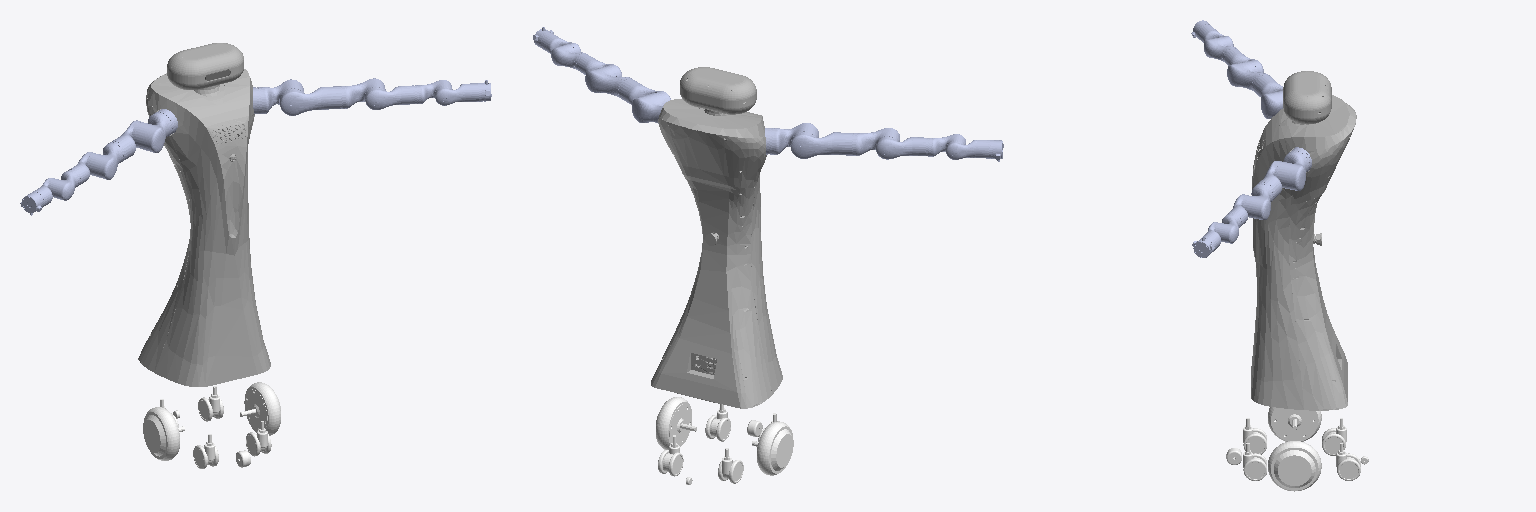
--- Facts derived from the render (not from the file) ---
The picture shows the robot from 3 angles, left to right: view 1: azimuth 30°, elevation 25°; view 2: azimuth 150°, elevation 25°; view 3: azimuth 270°, elevation 25°; orthographic projection.
Robot: dual_65B_arm_robot — 62 links, 61 joints (38 revolute, 1 continuous, 2 prismatic, 20 fixed); root link root; default pose: all joints at 0.
Links seen in each view (by area): view 1: body_base_link, head_link2, l_link2, l_wheel_link, r_wheel_link, r_link2, r_link1, l_link3, l_link5, l_link1, r_link4; view 2: body_base_link, head_link2, r_link2, l_wheel_link, r_wheel_link, l_link2, r_link3, l_link1, r_link5, r_link1, l_link4; view 3: body_base_link, head_link2, r_wheel_link, l_wheel_link, l_link2, r_link2, l_link1, l_link4.
Boxes of the visible links, <box> form: body_base_link: <box>138,69,270,386</box>; head_link2: <box>167,43,243,89</box>; l_link2: <box>280,78,385,115</box>; l_wheel_link: <box>143,407,184,460</box>; r_wheel_link: <box>240,382,280,435</box>; r_link2: <box>86,120,140,179</box>; r_link1: <box>131,112,172,152</box>; l_link3: <box>365,85,417,109</box>; l_link5: <box>435,83,481,105</box>; l_link1: <box>259,79,304,113</box>; r_link4: <box>48,170,78,200</box>; body_base_link: <box>651,99,782,408</box>; head_link2: <box>680,67,756,114</box>; r_link2: <box>790,128,899,158</box>; l_wheel_link: <box>752,421,793,475</box>; r_wheel_link: <box>656,397,696,449</box>; l_link2: <box>585,66,670,104</box>; r_link3: <box>876,137,928,159</box>; l_link1: <box>632,92,665,123</box>; r_link5: <box>946,140,992,159</box>; r_link1: <box>770,123,818,154</box>; l_link4: <box>551,44,585,69</box>; body_base_link: <box>1251,95,1356,410</box>; head_link2: <box>1283,71,1331,124</box>; r_wheel_link: <box>1268,441,1321,491</box>; l_wheel_link: <box>1268,407,1321,441</box>; l_link2: <box>1241,161,1281,219</box>; r_link2: <box>1227,61,1282,96</box>; l_link1: <box>1274,151,1309,190</box>; l_link4: <box>1214,214,1239,243</box>.
Bounding box of the posed robot: 1.66 × 0.5528 × 1.32 m (x, y, z).
Meshes: 59 distinct files referenced, 32 mesh visuals loaded (32 binary STL); not drawn: 27 (reference not matched to a file when rendering).

The robot description file, URDF, robot "dual_65B_arm_robot":
<?xml version="1.0" encoding="utf-8"?>
<!-- This URDF was automatically created by SolidWorks to URDF Exporter! Originally created by Stephen Brawner ([email redacted]) 
     Commit Version: 1.6.0-4-g7f85cfe  Build Version: 1.6.7995.38578
     For more information, please see http://wiki.ros.org/sw_urdf_exporter -->
<robot
  name="dual_65B_arm_robot">

  <link name="root">
    <inertial>
      <mass value="0"/>
      <inertia ixx="0.00" ixy="0.00" ixz="0.00" iyy="0.00" iyz="0.00" izz="0.00"/>
    </inertial>
  </link>
  <link name="root_arm_1_link_1">
    <inertial>
      <mass value="0"/>
      <inertia ixx="0.00" ixy="0.00" ixz="0.00" iyy="0.00" iyz="0.00" izz="0.00"/>
    </inertial>
  </link>
  <link name="root_arm_1_link_2">
    <inertial>
      <mass value="0"/>
      <inertia ixx="0.00" ixy="0.00" ixz="0.00" iyy="0.00" iyz="0.00" izz="0.00"/>
    </inertial>
  </link>
  <joint name="root_x_axis_joint" type="prismatic">
    <parent link="root"/>
    <child link="root_arm_1_link_1"/>
    <axis xyz="1 0 0"/>
    <limit effort="100" lower="-0.1" upper="0.1" velocity="0.50"/>
    <dynamics damping="10.0" friction="10"/>
  </joint>
  <joint name="root_y_axis_joint" type="prismatic">
    <parent link="root_arm_1_link_1"/>
    <child link="root_arm_1_link_2"/>
    <axis xyz="0 1 0"/>
    <limit effort="100" lower="-0.1" upper="0.1" velocity="0.50"/>
    <dynamics damping="10.0" friction="10"/>
  </joint>
  <joint name="root_z_rotation_joint" type="continuous">
    <parent link="root_arm_1_link_2"/>
    <child link="base_link"/>
    <axis xyz="0 0 1"/>
    <dynamics damping="10.0" friction="1"/>
  </joint>

  <link
    name="body_base_link">
    <inertial>
      <origin
        xyz="9.1042E-05 0.0090147 0.4566"
        rpy="0 0 0" />
      <mass
        value="4.7837" />
      <inertia
        ixx="0.23517"
        ixy="-3.192E-05"
        ixz="-0.00010587"
        iyy="0.25285"
        iyz="-0.018085"
        izz="0.047071" />
    </inertial>
    <visual>
      <origin
        xyz="0 0 0"
        rpy="0 0 0" />
      <geometry>
        <mesh
          filename="package://dual_65B_arm_robot/meshes/body_base_link.STL" />
      </geometry>
      <material
        name="">
        <color
          rgba="0.75294 0.75294 0.75294 1" />
      </material>
    </visual>
    <collision>
      <origin
        xyz="0 0 0"
        rpy="0 0 0" />
      <geometry>
        <mesh
          filename="package://dual_65B_arm_robot/meshes/body_base_link.STL" />
      </geometry>
    </collision>
  </link>
  <link
    name="head_link1">
    <inertial>
      <origin
        xyz="0.0001875 0.00096505 -0.016651"
        rpy="0 0 0" />
      <mass
        value="0.045769" />
      <inertia
        ixx="1.3234E-05"
        ixy="8.4883E-10"
        ixz="-7.4126E-08"
        iyy="1.9277E-05"
        iyz="9.0908E-07"
        izz="1.087E-05" />
    </inertial>
    <visual>
      <origin
        xyz="0 0 0"
        rpy="0 0 0" />
      <geometry>
        <mesh
          filename="package://dual_65B_arm_robot/meshes/head_link1.STL" />
      </geometry>
      <material
        name="">
        <color
          rgba="0.75294 0.75294 0.75294 1" />
      </material>
    </visual>
    <collision>
      <origin
        xyz="0 0 0"
        rpy="0 0 0" />
      <geometry>
        <mesh
          filename="package://dual_65B_arm_robot/meshes/head_link1.STL" />
      </geometry>
    </collision>
  </link>
  <joint
    name="head_joint1"
    type="revolute">
    <origin
      xyz="0 0.0405 0.96325"
      rpy="0 0 3.1416" />
    <parent
      link="body_base_link" />
    <child
      link="head_link1" />
    <axis
      xyz="0 0 -1" />
    <limit
      lower="-1.256"
      upper="1.256"
      effort="2"
      velocity="1.57" />
  </joint>
  <link
    name="head_link2">
    <inertial>
      <origin
        xyz="0.00049959 0.0049121 0.034146"
        rpy="0 0 0" />
      <mass
        value="0.3269" />
      <inertia
        ixx="0.00049217"
        ixy="1.368E-08"
        ixz="-4.1034E-08"
        iyy="0.0020328"
        iyz="-5.5292E-07"
        izz="0.0018375" />
    </inertial>
    <visual>
      <origin
        xyz="0 0 0"
        rpy="0 0 0" />
      <geometry>
        <mesh
          filename="package://dual_65B_arm_robot/meshes/head_link2.STL" />
      </geometry>
      <material
        name="">
        <color
          rgba="0.75294 0.75294 0.75294 1" />
      </material>
    </visual>
    <collision>
      <origin
        xyz="0 0 0"
        rpy="0 0 0" />
      <geometry>
        <mesh
          filename="package://dual_65B_arm_robot/meshes/head_link2.STL" />
      </geometry>
    </collision>
  </link>
  <joint
    name="head_joint2"
    type="revolute">
    <origin
      xyz="0 0 0"
      rpy="0 0 0" />
    <parent
      link="head_link1" />
    <child
      link="head_link2" />
    <axis
      xyz="1 0 0" />
    <limit
      lower="-0.419"
      upper="0.419"
      effort="2"
      velocity="1.57" />
  </joint>
  <link
    name="camera_link">
    <inertial>
      <origin
        xyz="-0.00024784 0.0019815 0.012439"
        rpy="0 0 0" />
      <mass
        value="0.04614" />
      <inertia
        ixx="4.0634E-06"
        ixy="-2.5882E-07"
        ixz="3.2692E-09"
        iyy="2.8364E-05"
        iyz="-1.3826E-09"
        izz="2.8417E-05" />
    </inertial>
    <visual>
      <origin
        xyz="0 0 0"
        rpy="0 0 0" />
      <geometry>
        <mesh
          filename="package://dual_65B_arm_robot/meshes/camera_link.STL" />
      </geometry>
      <material
        name="">
        <color
          rgba="0.50196 0.50196 0.50196 1" />
      </material>
    </visual>
    <collision>
      <origin
        xyz="0 0 0"
        rpy="0 0 0" />
      <geometry>
        <mesh
          filename="package://dual_65B_arm_robot/meshes/camera_link.STL" />
      </geometry>
    </collision>
  </link>
  <joint
    name="camera_joint"
    type="fixed">
    <origin
      xyz="0.0005 0.06055 0.018"
      rpy="0 0 0" />
    <parent
      link="head_link2" />
    <child
      link="camera_link" />
    <axis
      xyz="0 0 0" />
    <limit
      lower="-0.419"
      upper="0.419"
      effort="2"
      velocity="1.57" />
  </joint>
  <link
    name="r_base_link1">
    <inertial>
      <origin
        xyz="0.00012516 0.010809 -0.0025"
        rpy="0 0 0" />
      <mass
        value="0.066996" />
      <inertia
        ixx="9.1718E-05"
        ixy="3.885E-07"
        ixz="-2.5723E-21"
        iyy="7.8373E-05"
        iyz="3.7114E-21"
        izz="0.00016981" />
    </inertial>
    <visual>
      <origin
        xyz="0 0 0"
        rpy="0 0 0" />
      <geometry>
        <mesh
          filename="package://dual_65B_arm_robot/meshes/r_base_link1.STL" />
      </geometry>
      <material
        name="">
        <color
          rgba="0.75294 0.75294 0.75294 1" />
      </material>
    </visual>
    <collision>
      <origin
        xyz="0 0 0"
        rpy="0 0 0" />
      <geometry>
        <mesh
          filename="package://dual_65B_arm_robot/meshes/r_base_link1.STL" />
      </geometry>
    </collision>
  </link>
  <joint
    name="r_base_joint1"
    type="fixed">
    <origin
      xyz="-0.045832 0.068171 0.8505"
      rpy="2.7053 1.5708 0" />
    <parent
      link="body_base_link" />
    <child
      link="r_base_link1" />
    <axis
      xyz="0 0 0" />
  </joint>
  <link
    name="l_base_link1">
    <inertial>
      <origin
        xyz="0.00012516 -0.010809 -0.0025"
        rpy="0 0 0" />
      <mass
        value="0.066996" />
      <inertia
        ixx="9.1718E-05"
        ixy="-3.885E-07"
        ixz="-1.8006E-21"
        iyy="7.8373E-05"
        iyz="-1.2294E-20"
        izz="0.00016981" />
    </inertial>
    <visual>
      <origin
        xyz="0 0 0"
        rpy="0 0 0" />
      <geometry>
        <mesh
          filename="package://dual_65B_arm_robot/meshes/l_base_link1.STL" />
      </geometry>
      <material
        name="">
        <color
          rgba="0.75294 0.75294 0.75294 1" />
      </material>
    </visual>
    <collision>
      <origin
        xyz="0 0 0"
        rpy="0 0 0" />
      <geometry>
        <mesh
          filename="package://dual_65B_arm_robot/meshes/l_base_link1.STL" />
      </geometry>
    </collision>
  </link>
  <joint
    name="l_base_joint1"
    type="fixed">
    <origin
      xyz="0.045916 0.068353 0.8505"
      rpy="0.43633 1.5708 0" />
    <parent
      link="body_base_link" />
    <child
      link="l_base_link1" />
    <axis
      xyz="0 0 0" />
  </joint>
  
  
<!-- RM65-B左臂和身体的连接joint -->

  <joint
    name="l_body_arm_joint"
    type="fixed">
    <origin
      xyz="0 0 0"
      rpy="0 0 0" />
    <parent
      link="l_base_link1" />
    <child
      link="l_base_link" />
    <axis
      xyz="0 0 0" />
  </joint>


<!-- RM65-B左臂 -->

  <link
    name="l_base_link">
    <inertial>
      <origin
        xyz="-0.00033271 -2.2498E-05 0.060153"
        rpy="0 0 0" />
      <mass
        value="0.83984" />
      <inertia
        ixx="0.0017115"
        ixy="4.0323E-06"
        ixz="-4.7031E-05"
        iyy="0.0016829"
        iyz="1.8604E-06"
        izz="0.00089155" />
    </inertial>
    <visual>
      <origin
        xyz="0 0 0"
        rpy="0 0 0" />
      <geometry>
        <mesh
          filename="package://dual_65B_arm_robot/meshes/l_base_link.STL" />
      </geometry>
      <material
        name="">
        <color
          rgba="0.79216 0.81961 0.93333 1" />
      </material>
    </visual>
    <collision>
      <origin
        xyz="0 0 0"
        rpy="0 0 0" />
      <geometry>
        <mesh
          filename="package://dual_65B_arm_robot/meshes/l_base_link.STL" />
      </geometry>
    </collision>
  </link>
  <link
    name="l_link1">
    <inertial>
      <origin
        xyz="-2.9675E-07 0.021107 -0.025188"
        rpy="0 0 0" />
      <mass
        value="0.59353" />
      <inertia
        ixx="0.0012661"
        ixy="-5.363E-09"
        ixz="-2.109E-09"
        iyy="0.0011816"
        iyz="-0.00021118"
        izz="0.00056131" />
    </inertial>
    <visual>
      <origin
        xyz="0 0 0"
        rpy="0 0 0" />
      <geometry>
        <mesh
          filename="package://dual_65B_arm_robot/meshes/l_link1.STL" />
      </geometry>
      <material
        name="">
        <color
          rgba="0.79216 0.81961 0.93333 1" />
      </material>
    </visual>
    <collision>
      <origin
        xyz="0 0 0"
        rpy="0 0 0" />
      <geometry>
        <mesh
          filename="package://dual_65B_arm_robot/meshes/l_link1.STL" />
      </geometry>
    </collision>
  </link>
  <joint
    name="l_joint1"
    type="revolute">
    <origin
      xyz="0 0 0.2405"
      rpy="0 0 0" />
    <parent
      link="l_base_link" />
    <child
      link="l_link1" />
    <axis
      xyz="0 0 1" />
    <limit
      lower="-3.11"
      upper="3.11"
      effort="60"
      velocity="3.14" />
  </joint>
  <link
    name="l_link2">
    <inertial>
      <origin
        xyz="0.15226 2.3916E-07 -0.0062027"
        rpy="0 0 0" />
      <mass
        value="0.86416" />
      <inertia
        ixx="0.00063253"
        ixy="2.0103E-09"
        ixz="0.00042162"
        iyy="0.0020527"
        iyz="3.5857E-09"
        izz="0.0019528" />
    </inertial>
    <visual>
      <origin
        xyz="0 0 0"
        rpy="0 0 0" />
      <geometry>
        <mesh
          filename="package://dual_65B_arm_robot/meshes/l_link2.STL" />
      </geometry>
      <material
        name="">
        <color
          rgba="0.79216 0.81961 0.93333 1" />
      </material>
    </visual>
    <collision>
      <origin
        xyz="0 0 0"
        rpy="0 0 0" />
      <geometry>
        <mesh
          filename="package://dual_65B_arm_robot/meshes/l_link2.STL" />
      </geometry>
    </collision>
  </link>
  <joint
    name="l_joint2"
    type="revolute">
    <origin
      xyz="0 0 0"
      rpy="1.5708 -1.5708 0" />
    <parent
      link="l_link1" />
    <child
      link="l_link2" />
    <axis
      xyz="0 0 1" />
    <limit
      lower="-2.27"
      upper="2.27"
      effort="60"
      velocity="3.14" />
  </joint>
  <link
    name="l_link3">
    <inertial>
      <origin
        xyz="4.7194E-06 -0.059592 0.010268"
        rpy="0 0 0" />
      <mass
        value="0.28963" />
      <inertia
        ixx="0.00063737"
        ixy="-6.2601E-08"
        ixz="-3.5046E-08"
        iyy="0.00015649"
        iyz="-0.00014461"
        izz="0.00061418" />
    </inertial>
    <visual>
      <origin
        xyz="0 0 0"
        rpy="0 0 0" />
      <geometry>
        <mesh
          filename="package://dual_65B_arm_robot/meshes/l_link3.STL" />
      </geometry>
      <material
        name="">
        <color
          rgba="0.79216 0.81961 0.93333 1" />
      </material>
    </visual>
    <collision>
      <origin
        xyz="0 0 0"
        rpy="0 0 0" />
      <geometry>
        <mesh
          filename="package://dual_65B_arm_robot/meshes/l_link3.STL" />
      </geometry>
    </collision>
  </link>
  <joint
    name="l_joint3"
    type="revolute">
    <origin
      xyz="0.256 0 0"
      rpy="0 0 1.5708" />
    <parent
      link="l_link2" />
    <child
      link="l_link3" />
    <axis
      xyz="0 0 1" />
    <limit
      lower="-2.36"
      upper="2.36"
      effort="30"
      velocity="3.925" />
  </joint>
  <link
    name="l_link4">
    <inertial>
      <origin
        xyz="2.9186E-07 -0.018042 -0.02154"
        rpy="0 0 0" />
      <mass
        value="0.23942" />
      <inertia
        ixx="0.00028595"
        ixy="-2.3562E-09"
        ixz="1.3938E-09"
        iyy="0.00026273"
        iyz="4.424E-05"
        izz="0.0001199" />
    </inertial>
    <visual>
      <origin
        xyz="0 0 0"
        rpy="0 0 0" />
      <geometry>
        <mesh
          filename="package://dual_65B_arm_robot/meshes/l_link4.STL" />
      </geometry>
      <material
        name="">
        <color
          rgba="0.79216 0.81961 0.93333 1" />
      </material>
    </visual>
    <collision>
      <origin
        xyz="0 0 0"
        rpy="0 0 0" />
      <geometry>
        <mesh
          filename="package://dual_65B_arm_robot/meshes/l_link4.STL" />
      </geometry>
    </collision>
  </link>
  <joint
    name="l_joint4"
    type="revolute">
    <origin
      xyz="0 -0.21 -0.00030007"
      rpy="1.5708 0 0" />
    <parent
      link="l_link3" />
    <child
      link="l_link4" />
    <axis
      xyz="0 0 1" />
    <limit
      lower="-3.11"
      upper="3.11"
      effort="10"
      velocity="3.925" />
  </joint>
  <link
    name="l_link5">
    <inertial>
      <origin
        xyz="4.2301E-06 -0.059381 0.0070671"
        rpy="0 0 0" />
      <mass
        value="0.21879" />
      <inertia
        ixx="0.00035053"
        ixy="-2.8554E-08"
        ixz="-1.67E-08"
        iyy="0.00010492"
        iyz="-7.824E-05"
        izz="0.00033447" />
    </inertial>
    <visual>
      <origin
        xyz="0 0 0"
        rpy="0 0 0" />
      <geometry>
        <mesh
          filename="package://dual_65B_arm_robot/meshes/l_link5.STL" />
      </geometry>
      <material
        name="">
        <color
          rgba="0.79216 0.81961 0.93333 1" />
      </material>
    </visual>
    <collision>
      <origin
        xyz="0 0 0"
        rpy="0 0 0" />
      <geometry>
        <mesh
          filename="package://dual_65B_arm_robot/meshes/l_link5.STL" />
      </geometry>
    </collision>
  </link>
  <joint
    name="l_joint5"
    type="revolute">
    <origin
      xyz="0 0 0"
      rpy="-1.5708 0 0" />
    <parent
      link="l_link4" />
    <child
      link="l_link5" />
    <axis
      xyz="0 0 1" />
    <limit
      lower="-2.23"
      upper="2.23"
      effort="10"
      velocity="3.925" />
  </joint>
  <link
    name="l_link6">
    <inertial>
      <origin
        xyz="-0.00081845 -1.3327E-05 0.016317"
        rpy="0 0 0" />
      <mass
        value="0.064802" />
      <inertia
        ixx="2.102E-05"
        ixy="-2.2708E-08"
        ixz="2.4381E-08"
        iyy="1.7985E-05"
        iyz="1.0173E-08"
        izz="3.1728E-05" />
    </inertial>
    <visual>
      <origin
        xyz="0 0 0"
        rpy="0 0 0" />
      <geometry>
        <mesh
          filename="package://dual_65B_arm_robot/meshes/l_link6.STL" />
      </geometry>
      <material
        name="">
        <color
          rgba="0.79216 0.81961 0.93333 1" />
      </material>
    </visual>
    <collision>
      <origin
        xyz="0 0 0"
        rpy="0 0 0" />
      <geometry>
        <mesh
          filename="package://dual_65B_arm_robot/meshes/l_link6.STL" />
      </geometry>
    </collision>
  </link>
  <joint
    name="l_joint6"
    type="revolute">
    <origin
      xyz="0 -0.115 -0.00029971"
      rpy="-1.5708 0 3.1416" />
    <parent
      link="l_link5" />
    <child
      link="l_link6" />
    <axis
      xyz="0 0 1" />
    <limit
      lower="-6.28"
      upper="6.28"
      effort="10"
      velocity="3.925" />
  </joint>
  
  
<!-- RM65-B右臂和身体的连接joint -->

  <joint
    name="r_body_arm_joint"
    type="fixed">
    <origin
      xyz="0 0 0"
      rpy="0 0 3.1415" />
    <parent
      link="r_base_link1" />
    <child
      link="r_base_link" />
    <axis
      xyz="0 0 0" />
  </joint>
  
  
<!-- RM65-B右臂 --> 


  <link
    name="r_base_link">
    <inertial>
      <origin
        xyz="-0.0003328 -2.2058E-05 0.060153"
        rpy="0 0 0" />
      <mass
        value="0.83984" />
      <inertia
        ixx="0.0017115"
        ixy="4.0275E-06"
        ixz="-4.7032E-05"
        iyy="0.0016829"
        iyz="1.8664E-06"
        izz="0.00089154" />
    </inertial>
    <visual>
      <origin
        xyz="0 0 0"
        rpy="0 0 0" />
      <geometry>
        <mesh
          filename="package://dual_65B_arm_robot/meshes/r_base_link.STL" />
      </geometry>
      <material
        name="">
        <color
          rgba="0.79216 0.81961 0.93333 1" />
      </material>
    </visual>
    <collision>
      <origin
        xyz="0 0 0"
        rpy="0 0 0" />
      <geometry>
        <mesh
          filename="package://dual_65B_arm_robot/meshes/r_base_link.STL" />
      </geometry>
    </collision>
  </link>
  <link
    name="r_link1">
    <inertial>
      <origin
        xyz="-2.8998E-07 0.021107 -0.025188"
        rpy="0 0 0" />
      <mass
        value="0.59353" />
      <inertia
        ixx="0.0012661"
        ixy="-5.3526E-09"
        ixz="-2.0479E-09"
        iyy="0.0011816"
        iyz="-0.00021118"
        izz="0.00056131" />
    </inertial>
    <visual>
      <origin
        xyz="0 0 0"
        rpy="0 0 0" />
      <geometry>
        <mesh
          filename="package://dual_65B_arm_robot/meshes/r_link1.STL" />
      </geometry>
      <material
        name="">
        <color
          rgba="0.79216 0.81961 0.93333 1" />
      </material>
    </visual>
    <collision>
      <origin
        xyz="0 0 0"
        rpy="0 0 0" />
      <geometry>
        <mesh
          filename="package://dual_65B_arm_robot/meshes/r_link1.STL" />
      </geometry>
    </collision>
  </link>
  <joint
    name="r_joint1"
    type="revolute">
    <origin
      xyz="0 0 0.2405"
      rpy="0 0 3.14" />
    <parent
      link="r_base_link" />
    <child
      link="r_link1" />
    <axis
      xyz="0 0 1" />
    <limit
      lower="-3.11"
      upper="3.11"
      effort="60"
      velocity="3.14" />
  </joint>
  <link
    name="r_link2">
    <inertial>
      <origin
        xyz="0.15226 2.505E-07 -0.0062027"
        rpy="0 0 0" />
      <mass
        value="0.86416" />
      <inertia
        ixx="0.00063253"
        ixy="1.9052E-09"
        ixz="0.00042162"
        iyy="0.0020527"
        iyz="3.5874E-09"
        izz="0.0019528" />
    </inertial>
    <visual>
      <origin
        xyz="0 0 0"
        rpy="0 0 0" />
      <geometry>
        <mesh
          filename="package://dual_65B_arm_robot/meshes/r_link2.STL" />
      </geometry>
      <material
        name="">
        <color
          rgba="0.79216 0.81961 0.93333 1" />
      </material>
    </visual>
    <collision>
      <origin
        xyz="0 0 0"
        rpy="0 0 0" />
      <geometry>
        <mesh
          filename="package://dual_65B_arm_robot/meshes/r_link2.STL" />
      </geometry>
    </collision>
  </link>
  <joint
    name="r_joint2"
    type="revolute">
    <origin
      xyz="0 0 0"
      rpy="1.5708 -1.5708 0" />
    <parent
      link="r_link1" />
    <child
      link="r_link2" />
    <axis
      xyz="0 0 1" />
    <limit
      lower="-2.27"
      upper="2.27"
      effort="60"
      velocity="3.14" />
  </joint>
  <link
    name="r_link3">
    <inertial>
      <origin
        xyz="4.7421E-06 -0.059592 0.010268"
        rpy="0 0 0" />
      <mass
        value="0.28963" />
      <inertia
        ixx="0.00063737"
        ixy="-6.2554E-08"
        ixz="-3.5031E-08"
        iyy="0.00015649"
        iyz="-0.00014461"
        izz="0.00061418" />
    </inertial>
    <visual>
      <origin
        xyz="0 0 0"
        rpy="0 0 0" />
      <geometry>
        <mesh
          filename="package://dual_65B_arm_robot/meshes/r_link3.STL" />
      </geometry>
      <material
        name="">
        <color
          rgba="0.79216 0.81961 0.93333 1" />
      </material>
    </visual>
    <collision>
      <origin
        xyz="0 0 0"
        rpy="0 0 0" />
      <geometry>
        <mesh
          filename="package://dual_65B_arm_robot/meshes/r_link3.STL" />
      </geometry>
    </collision>
  </link>
  <joint
    name="r_joint3"
    type="revolute">
    <origin
      xyz="0.256 0 0"
      rpy="0 0 1.5708" />
    <parent
      link="r_link2" />
    <child
      link="r_link3" />
    <axis
      xyz="0 0 1" />
    <limit
      lower="-2.36"
      upper="2.36"
      effort="30"
      velocity="3.925" />
  </joint>
  <link
    name="r_link4">
    <inertial>
      <origin
        xyz="2.9088E-07 -0.018042 -0.02154"
        rpy="0 0 0" />
      <mass
        value="0.23942" />
      <inertia
        ixx="0.00028595"
        ixy="-2.3541E-09"
        ixz="1.386E-09"
        iyy="0.00026273"
        iyz="4.424E-05"
        izz="0.0001199" />
    </inertial>
    <visual>
      <origin
        xyz="0 0 0"
        rpy="0 0 0" />
      <geometry>
        <mesh
          filename="package://dual_65B_arm_robot/meshes/r_link4.STL" />
      </geometry>
      <material
        name="">
        <color
          rgba="0.79216 0.81961 0.93333 1" />
      </material>
    </visual>
    <collision>
      <origin
        xyz="0 0 0"
        rpy="0 0 0" />
      <geometry>
        <mesh
          filename="package://dual_65B_arm_robot/meshes/r_link4.STL" />
      </geometry>
    </collision>
  </link>
  <joint
    name="r_joint4"
    type="revolute">
    <origin
      xyz="0 -0.21 -0.00030007"
      rpy="1.5708 0 0" />
    <parent
      link="r_link3" />
    <child
      link="r_link4" />
    <axis
      xyz="0 0 1" />
    <limit
      lower="-3.11"
      upper="3.11"
      effort="10"
      velocity="3.925" />
  </joint>
  <link
    name="r_link5">
    <inertial>
      <origin
        xyz="4.2478E-06 -0.059381 0.007067"
        rpy="0 0 0" />
      <mass
        value="0.21879" />
      <inertia
        ixx="0.00035053"
        ixy="-2.8579E-08"
        ixz="-1.655E-08"
        iyy="0.00010492"
        iyz="-7.824E-05"
        izz="0.00033447" />
    </inertial>
    <visual>
      <origin
        xyz="0 0 0"
        rpy="0 0 0" />
      <geometry>
        <mesh
          filename="package://dual_65B_arm_robot/meshes/r_link5.STL" />
      </geometry>
      <material
        name="">
        <color
          rgba="0.79216 0.81961 0.93333 1" />
      </material>
    </visual>
    <collision>
      <origin
        xyz="0 0 0"
        rpy="0 0 0" />
      <geometry>
        <mesh
          filename="package://dual_65B_arm_robot/meshes/r_link5.STL" />
      </geometry>
    </collision>
  </link>
  <joint
    name="r_joint5"
    type="revolute">
    <origin
      xyz="0 0 0"
      rpy="-1.5708 0 0" />
    <parent
      link="r_link4" />
    <child
      link="r_link5" />
    <axis
      xyz="0 0 1" />
    <limit
      lower="-2.23"
      upper="2.23"
      effort="10"
      velocity="3.925" />
  </joint>
  <link
    name="r_link6">
    <inertial>
      <origin
        xyz="0.00081845 1.3321E-05 0.019292"
        rpy="0 0 0" />
      <mass
        value="0.064802" />
      <inertia
        ixx="2.102E-05"
        ixy="-2.2708E-08"
        ixz="-2.438E-08"
        iyy="1.7985E-05"
        iyz="-1.0173E-08"
        izz="3.1728E-05" />
    </inertial>
    <visual>
      <origin
        xyz="0 0 0"
        rpy="0 0 0" />
      <geometry>
        <mesh
          filename="package://dual_65B_arm_robot/meshes/r_link6.STL" />
      </geometry>
      <material
        name="">
        <color
          rgba="0.79216 0.81961 0.93333 1" />
      </material>
    </visual>
    <collision>
      <origin
        xyz="0 0 0"
        rpy="0 0 0" />
      <geometry>
        <mesh
          filename="package://dual_65B_arm_robot/meshes/r_link6.STL" />
      </geometry>
    </collision>
  </link>
  <joint
    name="r_joint6"
    type="revolute">
    <origin
      xyz="0 -0.11203 -0.00029971"
      rpy="1.5708 3.1415 0" />
    <parent
      link="r_link5" />
    <child
      link="r_link6" />
    <axis
      xyz="0 0 1" />
    <limit
      lower="-6.28"
      upper="6.28"
      effort="10"
      velocity="3.925" />
  </joint>
<!-- 底盘和主体连接joint -->  

  <joint
    name="dipan_zhuti_joint"
    type="fixed">
    <origin
      xyz="0 0 0.18"
      rpy="0 0 0" />
    <parent
      link="base_link" />
    <child
      link="body_base_link" />
    <axis
      xyz="0 0 0" />

  </joint>

<!-- 底盘 -->

  <link
    name="base_link">
    <inertial>
      <origin
        xyz="-0.00022588 -0.029317 0.067118"
        rpy="0 0 0" />
      <mass
        value="3.652" />
      <inertia
        ixx="0.040658"
        ixy="-4.1019E-05"
        ixz="0.00010805"
        iyy="0.085621"
        iyz="-0.00031013"
        izz="0.10712" />
    </inertial>
    <visual>
      <origin
        xyz="0 0 0"
        rpy="0 0 0" />
      <geometry>
        <mesh
          filename="package://dual_65B_arm_robot/meshes/base_link.STL" />
      </geometry>
      <material
        name="">
        <color
          rgba="1 1 1 1" />
      </material>
    </visual>
    <collision>
      <origin
        xyz="0 0 0"
        rpy="0 0 0" />
      <geometry>
        <mesh
          filename="package://dual_65B_arm_robot/meshes/base_link.STL" />
      </geometry>
    </collision>
  </link>
  <link
    name="r_wheel_link">
    <inertial>
      <origin
        xyz="0.33262 3.4018E-06 3.7026E-06"
        rpy="0 0 0" />
      <mass
        value="1.1012" />
      <inertia
        ixx="0.003396"
        ixy="2.2501E-07"
        ixz="2.3628E-07"
        iyy="0.001988"
        iyz="1.5358E-08"
        izz="0.001988" />
    </inertial>
    <visual>
      <origin
        xyz="0 0 0"
        rpy="0 0 0" />
      <geometry>
        <mesh
          filename="package://dual_65B_arm_robot/meshes/r_wheel_link.STL" />
      </geometry>
      <material
        name="">
        <color
          rgba="1 1 1 1" />
      </material>
    </visual>
    <collision>
      <origin
        xyz="0 0 0"
        rpy="0 0 0" />
      <geometry>
        <mesh
          filename="package://dual_65B_arm_robot/meshes/r_wheel_link.STL" />
      </geometry>
    </collision>
  </link>
  <joint
    name="r_wheel_joint_1"
    type="fixed">
    <origin
      xyz="-0.151 0 -0.0109"
      rpy="0 0 0" />
    <parent
      link="base_link" />
    <child
      link="r_wheel_link" />
    <axis
      xyz="1 0 0" />
    <limit
      effort="100"
      velocity="10" />
  </joint>
  <link
    name="l_wheel_link">
    <inertial>
      <origin
        xyz="-0.33262 9.1102E-08 5.0272E-06"
        rpy="0 0 0" />
      <mass
        value="1.1012" />
      <inertia
        ixx="0.003396"
        ixy="-7.5162E-11"
        ixz="-3.2628E-07"
        iyy="0.001988"
        iyz="-2.7338E-15"
        izz="0.001988" />
    </inertial>
    <visual>
      <origin
        xyz="0 0 0"
        rpy="0 0 0" />
      <geometry>
        <mesh
          filename="package://dual_65B_arm_robot/meshes/l_wheel_link.STL" />
      </geometry>
      <material
        name="">
        <color
          rgba="1 1 1 1" />
      </material>
    </visual>
    <collision>
      <origin
        xyz="0 0 0"
        rpy="0 0 0" />
      <geometry>
        <mesh
          filename="package://dual_65B_arm_robot/meshes/l_wheel_link.STL" />
      </geometry>
    </collision>
  </link>
  <joint
    name="l_wheel_joint2"
    type="fixed">
    <origin
      xyz="0.151 0 -0.0109"
      rpy="0 0 0" />
    <parent
      link="base_link" />
    <child
      link="l_wheel_link" />
    <axis
      xyz="1 0 0" />
    <limit
      effort="100"
      velocity="10" />
  </joint>
  <link
    name="min_wheel_link1">
    <inertial>
      <origin
        xyz="0.0065 4.231E-08 -2.8631E-08"
        rpy="0 0 0" />
      <mass
        value="0.0059492" />
      <inertia
        ixx="4.5784E-07"
        ixy="-2.2073E-13"
        ixz="3.9671E-13"
        iyy="3.0694E-07"
        iyz="-1.2059E-12"
        izz="3.0694E-07" />
    </inertial>
    <visual>
      <origin
        xyz="0 0 0"
        rpy="0 0 0" />
      <geometry>
        <mesh
          filename="package://dual_65B_arm_robot/meshes/min_wheel_link1.STL" />
      </geometry>
      <material
        name="">
        <color
          rgba="1 1 1 1" />
      </material>
    </visual>
    <collision>
      <origin
        xyz="0 0 0"
        rpy="0 0 0" />
      <geometry>
        <mesh
          filename="package://dual_65B_arm_robot/meshes/min_wheel_link1.STL" />
      </geometry>
    </collision>
  </link>
  <joint
    name="min_wheel_joint"
    type="fixed">
    <origin
      xyz="-0.0065 0.218 -0.0745"
      rpy="0 0 0" />
    <parent
      link="base_link" />
    <child
      link="min_wheel_link1" />
    <axis
      xyz="-1 0 0" />
  </joint>
  <link
    name="medium_wheel_link2">
    <inertial>
      <origin
        xyz="0.015 0 0"
        rpy="0 0 0" />
      <mass
        value="0.055849" />
      <inertia
        ixx="1.7473E-05"
        ixy="7.0072E-12"
        ixz="-1.4822E-11"
        iyy="1.2735E-05"
        iyz="-1.8244E-10"
        izz="1.2735E-05" />
    </inertial>
    <visual>
      <origin
        xyz="0 0 0"
        rpy="0 0 0" />
      <geometry>
        <mesh
          filename="package://dual_65B_arm_robot/meshes/medium_wheel_link2.STL" />
      </geometry>
      <material
        name="">
        <color
          rgba="1 1 1 1" />
      </material>
    </visual>
    <collision>
      <origin
        xyz="0 0 0"
        rpy="0 0 0" />
      <geometry>
        <mesh
          filename="package://dual_65B_arm_robot/meshes/medium_wheel_link2.STL" />
      </geometry>
    </collision>
  </link>
  <joint
    name="medium_wheel_joint2"
    type="fixed">
    <origin
      xyz="-0.014 -0.188 -0.061"
      rpy="0 0 0" />
    <parent
      link="base_link" />
    <child
      link="medium_wheel_link2" />
    <axis
      xyz="-1 0 0" />
  </joint>
  <link
    name="swivel_wheel_link1_1">
    <inertial>
      <origin
        xyz="6.9718E-08 -0.0021717 0.034797"
        rpy="0 0 0" />
      <mass
        value="0.033248" />
      <inertia
        ixx="1.1034E-05"
        ixy="-2.1793E-11"
        ixz="-4.5884E-11"
        iyy="1.084E-05"
        iyz="-1.5008E-06"
        izz="3.8134E-06" />
    </inertial>
    <visual>
      <origin
        xyz="0 0 0"
        rpy="0 0 0" />
      <geometry>
        <mesh
          filename="package://dual_65B_arm_robot/meshes/swivel_wheel_link1_1.STL" />
      </geometry>
      <material
        name="">
        <color
          rgba="1 1 1 1" />
      </material>
    </visual>
    <collision>
      <origin
        xyz="0 0 0"
        rpy="0 0 0" />
      <geometry>
        <mesh
          filename="package://dual_65B_arm_robot/meshes/swivel_wheel_link1_1.STL" />
      </geometry>
    </collision>
  </link>
  <joint
    name="swivel_wheel_joint1_1"
    type="fixed">
    <origin
      xyz="-0.093 -0.146 -0.0552"
      rpy="0 0 0" />
    <parent
      link="base_link" />
    <child
      link="swivel_wheel_link1_1" />
    <axis
      xyz="0 0 1" />
  </joint>
  <link
    name="swivel_wheel_link1_2">
    <inertial>
      <origin
        xyz="-1.0802E-07 -2.8487E-07 -4.6142E-07"
        rpy="0 0 0" />
      <mass
        value="0.17673" />
      <inertia
        ixx="0.00010419"
        ixy="-2.299E-10"
        ixz="-2.8569E-10"
        iyy="9.7392E-05"
        iyz="1.9391E-09"
        izz="9.7391E-05" />
    </inertial>
    <visual>
      <origin
        xyz="0 0 0"
        rpy="0 0 0" />
      <geometry>
        <mesh
          filename="package://dual_65B_arm_robot/meshes/swivel_wheel_link1_2.STL" />
      </geometry>
      <material
        name="">
        <color
          rgba="1 1 1 1" />
      </material>
    </visual>
    <collision>
      <origin
        xyz="0 0 0"
        rpy="0 0 0" />
      <geometry>
        <mesh
          filename="package://dual_65B_arm_robot/meshes/swivel_wheel_link1_2.STL" />
      </geometry>
    </collision>
  </link>
  <joint
    name="swivel_wheel_joint_1_2"
    type="fixed">
    <origin
      xyz="0 0.0235 0"
      rpy="0 0 0" />
    <parent
      link="swivel_wheel_link1_1" />
    <child
      link="swivel_wheel_link1_2" />
    <axis
      xyz="-1 0 0" />
  </joint>
  <link
    name="swivel_wheel_link2_1">
    <inertial>
      <origin
        xyz="6.9718E-08 -0.0021717 0.034797"
        rpy="0 0 0" />
      <mass
        value="0.033248" />
      <inertia
        ixx="1.1034E-05"
        ixy="-2.1793E-11"
        ixz="-4.5884E-11"
        iyy="1.084E-05"
        iyz="-1.5008E-06"
        izz="3.8134E-06" />
    </inertial>
    <visual>
      <origin
        xyz="0 0 0"
        rpy="0 0 0" />
      <geometry>
        <mesh
          filename="package://dual_65B_arm_robot/meshes/swivel_wheel_link2_1.STL" />
      </geometry>
      <material
        name="">
        <color
          rgba="1 1 1 1" />
      </material>
    </visual>
    <collision>
      <origin
        xyz="0 0 0"
        rpy="0 0 0" />
      <geometry>
        <mesh
          filename="package://dual_65B_arm_robot/meshes/swivel_wheel_link2_1.STL" />
      </geometry>
    </collision>
  </link>
  <joint
    name="swivel_wheel_joint2_1"
    type="fixed">
    <origin
      xyz="0.093 -0.146 -0.0552"
      rpy="0 0 0" />
    <parent
      link="base_link" />
    <child
      link="swivel_wheel_link2_1" />
    <axis
      xyz="0 0 1" />
  </joint>
  <link
    name="swivel_wheel_link2_2">
    <inertial>
      <origin
        xyz="-1.0802E-07 -2.8487E-07 -4.6142E-07"
        rpy="0 0 0" />
      <mass
        value="0.17673" />
      <inertia
        ixx="0.00010419"
        ixy="-2.299E-10"
        ixz="-2.8569E-10"
        iyy="9.7392E-05"
        iyz="1.9391E-09"
        izz="9.7391E-05" />
    </inertial>
    <visual>
      <origin
        xyz="0 0 0"
        rpy="0 0 0" />
      <geometry>
        <mesh
          filename="package://dual_65B_arm_robot/meshes/swivel_wheel_link2_2.STL" />
      </geometry>
      <material
        name="">
        <color
          rgba="1 1 1 1" />
      </material>
    </visual>
    <collision>
      <origin
        xyz="0 0 0"
        rpy="0 0 0" />
      <geometry>
        <mesh
          filename="package://dual_65B_arm_robot/meshes/swivel_wheel_link2_2.STL" />
      </geometry>
    </collision>
  </link>
  <joint
    name="swivel_wheel_joint2_2"
    type="fixed">
    <origin
      xyz="0 0.0235 0"
      rpy="0 0 0" />
    <parent
      link="swivel_wheel_link2_1" />
    <child
      link="swivel_wheel_link2_2" />
    <axis
      xyz="-1 0 0" />
  </joint>
  <link
    name="swivel_wheel_link3_1">
    <inertial>
      <origin
        xyz="-6.9718E-08 0.0021717 0.034797"
        rpy="0 0 0" />
      <mass
        value="0.033248" />
      <inertia
        ixx="1.1034E-05"
        ixy="-2.1793E-11"
        ixz="4.5884E-11"
        iyy="1.084E-05"
        iyz="1.5008E-06"
        izz="3.8134E-06" />
    </inertial>
    <visual>
      <origin
        xyz="0 0 0"
        rpy="0 0 0" />
      <geometry>
        <mesh
          filename="package://dual_65B_arm_robot/meshes/swivel_wheel_link3_1.STL" />
      </geometry>
      <material
        name="">
        <color
          rgba="1 1 1 1" />
      </material>
    </visual>
    <collision>
      <origin
        xyz="0 0 0"
        rpy="0 0 0" />
      <geometry>
        <mesh
          filename="package://dual_65B_arm_robot/meshes/swivel_wheel_link3_1.STL" />
      </geometry>
    </collision>
  </link>
  <joint
    name="swivel_wheel_joint3_1"
    type="fixed">
    <origin
      xyz="-0.093 0.146 -0.0552"
      rpy="0 0 0" />
    <parent
      link="base_link" />
    <child
      link="swivel_wheel_link3_1" />
    <axis
      xyz="0 0 1" />
  </joint>
  <link
    name="swivel_wheel_link3_2">
    <inertial>
      <origin
        xyz="1.0802E-07 2.8487E-07 -4.6142E-07"
        rpy="0 0 0" />
      <mass
        value="0.17673" />
      <inertia
        ixx="0.00010419"
        ixy="-2.299E-10"
        ixz="2.8569E-10"
        iyy="9.7392E-05"
        iyz="-1.9391E-09"
        izz="9.7391E-05" />
    </inertial>
    <visual>
      <origin
        xyz="0 0 0"
        rpy="0 0 0" />
      <geometry>
        <mesh
          filename="package://dual_65B_arm_robot/meshes/swivel_wheel_link3_2.STL" />
      </geometry>
      <material
        name="">
        <color
          rgba="1 1 1 1" />
      </material>
    </visual>
    <collision>
      <origin
        xyz="0 0 0"
        rpy="0 0 0" />
      <geometry>
        <mesh
          filename="package://dual_65B_arm_robot/meshes/swivel_wheel_link3_2.STL" />
      </geometry>
    </collision>
  </link>
  <joint
    name="swivel_wheel_joint3_2"
    type="fixed">
    <origin
      xyz="0 -0.0235 0"
      rpy="0 0 0" />
    <parent
      link="swivel_wheel_link3_1" />
    <child
      link="swivel_wheel_link3_2" />
    <axis
      xyz="1 0 0" />
  </joint>
  <link
    name="swivel_wheel_link4_1">
    <inertial>
      <origin
        xyz="6.9718E-08 -0.0021717 0.034797"
        rpy="0 0 0" />
      <mass
        value="0.033248" />
      <inertia
        ixx="1.1034E-05"
        ixy="-2.1793E-11"
        ixz="-4.5884E-11"
        iyy="1.084E-05"
        iyz="-1.5008E-06"
        izz="3.8134E-06" />
    </inertial>
    <visual>
      <origin
        xyz="0 0 0"
        rpy="0 0 0" />
      <geometry>
        <mesh
          filename="package://dual_65B_arm_robot/meshes/swivel_wheel_link4_1.STL" />
      </geometry>
      <material
        name="">
        <color
          rgba="1 1 1 1" />
      </material>
    </visual>
    <collision>
      <origin
        xyz="0 0 0"
        rpy="0 0 0" />
      <geometry>
        <mesh
          filename="package://dual_65B_arm_robot/meshes/swivel_wheel_link4_1.STL" />
      </geometry>
    </collision>
  </link>
  <joint
    name="swivel_wheel_joint4_1"
    type="fixed">
    <origin
      xyz="0.093 0.146 -0.0552"
      rpy="0 0 0" />
    <parent
      link="base_link" />
    <child
      link="swivel_wheel_link4_1" />
    <axis
      xyz="0 0 1" />
  </joint>
  <link
    name="swivel_wheel_link4_2">
    <inertial>
      <origin
        xyz="-1.0802E-07 0.0235 -4.6142E-07"
        rpy="0 0 0" />
      <mass
        value="0.17673" />
      <inertia
        ixx="0.00010419"
        ixy="-2.299E-10"
        ixz="-2.8569E-10"
        iyy="9.7392E-05"
        iyz="1.9391E-09"
        izz="9.7391E-05" />
    </inertial>
    <visual>
      <origin
        xyz="0 0 0"
        rpy="0 0 0" />
      <geometry>
        <mesh
          filename="package://dual_65B_arm_robot/meshes/swivel_wheel_link4_2.STL" />
      </geometry>
      <material
        name="">
        <color
          rgba="1 1 1 1" />
      </material>
    </visual>
    <collision>
      <origin
        xyz="0 0 0"
        rpy="0 0 0" />
      <geometry>
        <mesh
          filename="package://dual_65B_arm_robot/meshes/swivel_wheel_link4_2.STL" />
      </geometry>
    </collision>
  </link>
  <joint
    name="swivel_wheel_joint4_2"
    type="fixed">
    <origin
      xyz="0 0 0"
      rpy="0 0 0" />
    <parent
      link="swivel_wheel_link4_1" />
    <child
      link="swivel_wheel_link4_2" />
    <axis
      xyz="-1 0 0" />
  </joint>


  <!-- 左臂末端和左手灵巧手的连接joint -->
  <joint name="l_arm_hand_joint" type="fixed">
    <origin xyz="0 0 0.03" rpy="3.14 0 1.57" />
    <parent link="l_link6" />
    <child link="l_hand_base_link" />
    <axis xyz="0 0 0" />
  </joint>

  <!-- 左手灵巧手 -->
  <link name="l_hand_base_link">
    <inertial>
      <origin xyz="-0.0071754 0.0035435 0.086503" rpy="0 0 0" />
      <mass value="0.19121" />
      <inertia ixx="0.00051318" ixy="4.0981E-05" ixz="-2.4782E-06" iyy="0.00048013" iyz="5.5952E-06" izz="0.00019085" />
    </inertial>
    <visual>
      <origin xyz="0 0 0" rpy="0 0 0" />
      <geometry>
        <mesh filename="package://dual_65B_arm_robot/meshes/l_hand_base_link.STL" />
      </geometry>
      <material name="">
        <color rgba="0.75294 0.75294 0.75294 1" />
      </material>
    </visual>
    <collision>
      <origin xyz="0 0 0" rpy="0 0 0" />
      <geometry>
        <mesh filename="package://dual_65B_arm_robot/meshes/l_hand_base_link.STL" />
      </geometry>
    </collision>
  </link>

  <!-- 右臂末端和右手灵巧手的连接joint -->
  <joint name="r_arm_hand_joint" type="fixed">
    <origin xyz="0 0 0.03" rpy="3.14 0 -1.57" />
    <parent link="r_link6" />
    <child link="r_hand_base_link" />
    <axis xyz="0 0 0" />
  </joint>

  <!-- 右手灵巧手 -->
  <link name="r_hand_base_link">
    <inertial>
      <origin xyz="0.007634 0.0023992 0.084999" rpy="0 0 0" />
      <mass value="0.19125" />
      <inertia ixx="0.00050006" ixy="-4.4071E-05" ixz="3.3293E-06" iyy="0.0004934" iyz="5.1155E-06" izz="0.00019084" />
    </inertial>
    <visual>
      <origin xyz="0 0 0" rpy="0 0 0" />
      <geometry>
        <mesh filename="package://dual_65B_arm_robot/meshes/r_hand_base_link.STL" />
      </geometry>
      <material name="">
        <color rgba="0.75294 0.75294 0.75294 1" />
      </material>
    </visual>
    <collision>
      <origin xyz="0 0 0" rpy="0 0 0" />
      <geometry>
        <mesh filename="package://dual_65B_arm_robot/meshes/r_hand_base_link.STL" />
      </geometry>
    </collision>
  </link>

  <!-- 右手灵巧手的URDF结构 -->
  <!-- <link name="base_link_right_hand">
    <inertial>
      <origin xyz="-4.91696692515552E-05 -0.00297934158474353 -0.0724838074966582" rpy="0 0 0" />
      <mass value="0.260034351097693" />
      <inertia ixx="0.000240584294557413" ixy="1.12900341553271E-06" ixz="5.34716263010627E-07" iyy="0.000284423438713157" iyz="-1.41174524262487E-05" izz="0.000155854672271766" />
    </inertial>
    <visual>
      <origin xyz="0 0 0" rpy="0 0 0" />
      <geometry>
        <mesh filename="package://dual_65B_arm_robot/meshes/base_link.STL" />
      </geometry>
      <material name="">
        <color rgba="1 1 1 1" />
      </material>
    </visual>
    <collision>
      <origin xyz="0 0 0" rpy="0 0 0" />
      <geometry>
        <mesh filename="package://dual_65B_arm_robot/meshes/base_link.STL" />
      </geometry>
    </collision>
  </link> -->

  <!-- 右手灵巧手的关节和链接 -->
  <link
    name="right_thumb_1">
    <inertial>
      <origin
        xyz="-0.00178423179132732 0.000649410769092404 0.00488589310434417"
        rpy="0 0 0" />
      <mass
        value="0.00115518743162309" />
      <inertia
        ixx="5.98911473694571E-08"
        ixy="-8.04324266712912E-09"
        ixz="-3.29346964287939E-09"
        iyy="4.07201940087006E-08"
        iyz="1.1987242259973E-09"
        izz="6.18161684388651E-08" />
    </inertial>
    <visual>
      <origin
        xyz="0 0 0"
        rpy="0 0 0" />
      <geometry>
        <mesh
          filename="package://dual_65B_arm_robot/meshes/right_thumb_1.STL" />
      </geometry>
      <material
        name="">
        <color
          rgba="1 1 1 1" />
      </material>
    </visual>
    <collision>
      <origin
        xyz="0 0 0"
        rpy="0 0 0" />
      <geometry>
        <mesh
          filename="package://dual_65B_arm_robot/meshes/right_thumb_1.STL" />
      </geometry>
    </collision>
  </link>
  <joint
    name="right_thumb_1_joint"
    type="revolute">
    <origin
      xyz="0.0269 0.02101 -0.069"
      rpy="-3.1416 0 -3.1416" />
    <parent
      link="r_hand_base_link" />
    <child
      link="right_thumb_1" />
    <axis
      xyz="0 0 -1" />
    <limit
      lower="0"
      upper="1.15"
      effort="10"
      velocity="1" />
  </joint>
  <link
    name="right_thumb_2">
    <inertial>
      <origin
        xyz="0.0141071308121962 0.0132720367246953 -0.00905029680056009"
        rpy="0 0 0" />
      <mass
        value="0.016" />
      <inertia
        ixx="1.06573287501608E-06"
        ixy="-7.61985755293293E-08"
        ixz="-2.57609628655293E-11"
        iyy="1.06536320559038E-06"
        iyz="5.09603163270097E-12"
        izz="1.39688473195303E-06" />
    </inertial>
    <visual>
      <origin
        xyz="0 0 0"
        rpy="0 0 0" />
      <geometry>
        <mesh
          filename="package://dual_65B_arm_robot/meshes/right_thumb_2.STL" />
      </geometry>
      <material
        name="">
        <color
          rgba="1 1 1 1" />
      </material>
    </visual>
    <collision>
      <origin
        xyz="0 0 0"
        rpy="0 0 0" />
      <geometry>
        <mesh
          filename="package://dual_65B_arm_robot/meshes/right_thumb_2.STL" />
      </geometry>
    </collision>
  </link>
  <joint
    name="right_thumb_2_joint"
    type="revolute">
    <origin
      xyz="-0.0063016 0.011924 0.003"
      rpy="1.5708 0 2.7925" />
    <parent
      link="right_thumb_1" />
    <child
      link="right_thumb_2" />
    <axis
      xyz="0 0 1" />
    <limit
      lower="0"
      upper="0.55"
      effort="10"
      velocity="1" />
  </joint>
  <link
    name="right_thumb_3">
    <inertial>
      <origin
        xyz="0.00937843602210774 0.00404407714692963 -0.00753947150343212"
        rpy="0 0 0" />
      <mass
        value="0.012" />
      <inertia
        ixx="4.67837152048068E-07"
        ixy="-4.50034504480504E-08"
        ixz="-7.50604972036399E-11"
        iyy="3.98821847444202E-07"
        iyz="-2.80308780973008E-10"
        izz="4.24792779381109E-07" />
    </inertial>
    <visual>
      <origin
        xyz="0 0 0"
        rpy="0 0 0" />
      <geometry>
        <mesh
          filename="package://dual_65B_arm_robot/meshes/right_thumb_3.STL" />
      </geometry>
      <material
        name="">
        <color
          rgba="1 1 1 1" />
      </material>
    </visual>
    <collision>
      <origin
        xyz="0 0 0"
        rpy="0 0 0" />
      <geometry>
        <mesh
          filename="package://dual_65B_arm_robot/meshes/right_thumb_3.STL" />
      </geometry>
    </collision>
  </link>
  <joint
    name="right_thumb_3_joint"
    type="revolute">
    <origin
      xyz="0.034968 0.021325 -0.0015"
      rpy="0 0 0" />
    <parent
      link="right_thumb_2" />
    <child
      link="right_thumb_3" />
    <axis
      xyz="0 0 1" />
    <limit
      lower="0"
      upper="3.14"
      effort="10"
      velocity="1" />
    <mimic
        joint="right_thumb_2_joint"
        multiplier="0.60"
        offset="0" />
  </joint>
  <link
    name="right_thumb_4">
    <inertial>
      <origin
        xyz="0.0109973997213043 0.00131062737520288 -0.0073435196000655"
        rpy="0 0 0" />
      <mass
        value="0.01" />
      <inertia
        ixx="6.43617695804108E-07"
        ixy="-2.57371067432159E-07"
        ixz="8.83834214745077E-10"
        iyy="7.63665185138253E-07"
        iyz="7.47494238463672E-10"
        izz="9.2568863295396E-07" />
    </inertial>
    <visual>
      <origin
        xyz="0 0 0"
        rpy="0 0 0" />
      <geometry>
        <mesh
          filename="package://dual_65B_arm_robot/meshes/right_thumb_4.STL" />
      </geometry>
      <material
        name="">
        <color
          rgba="1 1 1 1" />
      </material>
    </visual>
    <collision>
      <origin
        xyz="0 0 0"
        rpy="0 0 0" />
      <geometry>
        <mesh
          filename="package://dual_65B_arm_robot/meshes/right_thumb_4.STL" />
      </geometry>
    </collision>
  </link>
  <joint
    name="right_thumb_4_joint"
    type="revolute">
    <origin
      xyz="0.018887 0.011501 -0.0002"
      rpy="0 0 0" />
    <parent
      link="right_thumb_3" />
    <child
      link="right_thumb_4" />
    <axis
      xyz="0 0 1" />
    <limit
      lower="0"
      upper="3.14"
      effort="10"
      velocity="1" />
    <mimic
        joint="right_thumb_2_joint"
        multiplier="0.8"
        offset="0" />
  </joint>
  <link
    name="right_index_1">
    <inertial>
      <origin
        xyz="-0.00183546255523356 0.0123552521861834 -0.00664922294778368"
        rpy="0 0 0" />
      <mass
        value="0.00719999389753264" />
      <inertia
        ixx="1.28371991025318E-06"
        ixy="4.21564829206078E-08"
        ixz="-4.10859703056649E-12"
        iyy="5.79478432222904E-07"
        iyz="6.39690407239206E-11"
        izz="1.32925246769088E-06" />
    </inertial>
    <visual>
      <origin
        xyz="0 0 0"
        rpy="0 0 0" />
      <geometry>
        <mesh
          filename="package://dual_65B_arm_robot/meshes/right_index_1.STL" />
      </geometry>
      <material
        name="">
        <color
          rgba="1 1 1 1" />
      </material>
    </visual>
    <collision>
      <origin
        xyz="0 0 0"
        rpy="0 0 0" />
      <geometry>
        <mesh
          filename="package://dual_65B_arm_robot/meshes/right_index_1.STL" />
      </geometry>
    </collision>
  </link>
  <joint
    name="right_index_1_joint"
    type="revolute">
    <origin
      xyz="0.038679 0.00056467 -0.1564"
      rpy="-1.5359 0 -1.5708" />
    <parent
      link="r_hand_base_link" />
    <child
      link="right_index_1" />
    <axis
      xyz="0 0 1" />
    <limit
      lower="0"
      upper="1.6"
      effort="10"
      velocity="1" />
  </joint>
  <link
    name="right_index_2">
    <inertial>
      <origin
        xyz="0.000405081354201142 0.0257028143581744 -0.00609275623125877"
        rpy="0 0 0" />
      <mass
        value="0.0096859422185797" />
      <inertia
        ixx="2.25513837942244E-06"
        ixy="4.11239564383381E-07"
        ixz="-3.94499739658711E-10"
        iyy="3.91290903748666E-07"
        iyz="2.79706871963245E-09"
        izz="2.30200483771215E-06" />
    </inertial>
    <visual>
      <origin
        xyz="0 0 0"
        rpy="0 0 0" />
      <geometry>
        <mesh
          filename="package://dual_65B_arm_robot/meshes/right_index_2.STL" />
      </geometry>
      <material
        name="">
        <color
          rgba="1 1 1 1" />
      </material>
    </visual>
    <collision>
      <origin
        xyz="0 0 0"
        rpy="0 0 0" />
      <geometry>
        <mesh
          filename="package://dual_65B_arm_robot/meshes/right_index_2.STL" />
      </geometry>
    </collision>
  </link>
  <joint
    name="right_index_2_joint"
    type="revolute">
    <origin
      xyz="-0.0016312 0.032734 -0.00055"
      rpy="0 0 0" />
    <parent
      link="right_index_1" />
    <child
      link="right_index_2" />
    <axis
      xyz="0 0 1" />
    <limit
      lower="0"
      upper="3.14"
      effort="10"
      velocity="1" />
    <mimic
        joint="right_index_1_joint"
        multiplier="1.05"
        offset="0" />
  </joint>
  <link
    name="right_middle_1">
    <inertial>
      <origin
        xyz="-0.00229221489529491 0.0122787164691098 -0.00664923691414206"
        rpy="0 0 0" />
      <mass
        value="0.00719999454699651" />
      <inertia
        ixx="1.27961146095209E-06"
        ixy="6.81307502326408E-08"
        ixz="-6.13869092479439E-12"
        iyy="5.83570383259162E-07"
        iyz="6.33401074034573E-11"
        izz="1.32923656099557E-06" />
    </inertial>
    <visual>
      <origin
        xyz="0 0 0"
        rpy="0 0 0" />
      <geometry>
        <mesh
          filename="package://dual_65B_arm_robot/meshes/right_middle_1.STL" />
      </geometry>
      <material
        name="">
        <color
          rgba="1 1 1 1" />
      </material>
    </visual>
    <collision>
      <origin
        xyz="0 0 0"
        rpy="0 0 0" />
      <geometry>
        <mesh
          filename="package://dual_65B_arm_robot/meshes/right_middle_1.STL" />
      </geometry>
    </collision>
  </link>
  <joint
    name="right_middle_1_joint"
    type="revolute">
    <origin
      xyz="0.0171 0.00056467 -0.157"
      rpy="-1.5708 0 -1.5708" />
    <parent
      link="r_hand_base_link" />
    <child
      link="right_middle_1" />
    <axis
      xyz="0 0 1" />
    <limit
      lower="0"
      upper="1.6"
      effort="10"
      velocity="1" />
  </joint>
  <link
    name="right_middle_2">
    <inertial>
      <origin
        xyz="7.55635061812504E-05 0.0274472409700489 -0.00610051225570537"
        rpy="0 0 0" />
      <mass
        value="0.0104603374357648" />
      <inertia
        ixx="2.75802690517233E-06"
        ixy="4.66354191789105E-07"
        ixz="-3.73412436067728E-12"
        iyy="4.22418749660047E-07"
        iyz="7.48571284682703E-11"
        izz="2.80694637912416E-06" />
    </inertial>
    <visual>
      <origin
        xyz="0 0 0"
        rpy="0 0 0" />
      <geometry>
        <mesh
          filename="package://dual_65B_arm_robot/meshes/right_middle_2.STL" />
      </geometry>
      <material
        name="">
        <color
          rgba="1 1 1 1" />
      </material>
    </visual>
    <collision>
      <origin
        xyz="0 0 0"
        rpy="0 0 0" />
      <geometry>
        <mesh
          filename="package://dual_65B_arm_robot/meshes/right_middle_2.STL" />
      </geometry>
    </collision>
  </link>
  <joint
    name="right_middle_2_joint"
    type="revolute">
    <origin
      xyz="-0.0028436 0.032651 -0.00055"
      rpy="0 0 0" />
    <parent
      link="right_middle_1" />
    <child
      link="right_middle_2" />
    <axis
      xyz="0 0 1" />
    <limit
      lower="0"
      upper="3.14"
      effort="10"
      velocity="1" />
    <mimic
        joint="right_middle_1_joint"
        multiplier="1.05"
        offset="0" />
  </joint>
  <link
    name="right_ring_1">
    <inertial>
      <origin
        xyz="-0.00240481178777661 0.0122571709475593 -0.00664923625225445"
        rpy="0 0 0" />
      <mass
        value="0.00719998997814135" />
      <inertia
        ixx="1.27830103769765E-06"
        ixy="7.45073064952646E-08"
        ixz="-6.73880804360017E-12"
        iyy="5.84879553082369E-07"
        iyz="6.3350585052199E-11"
        izz="1.32923557625193E-06" />
    </inertial>
    <visual>
      <origin
        xyz="0 0 0"
        rpy="0 0 0" />
      <geometry>
        <mesh
          filename="package://dual_65B_arm_robot/meshes/right_ring_1.STL" />
      </geometry>
      <material
        name="">
        <color
          rgba="1 1 1 1" />
      </material>
    </visual>
    <collision>
      <origin
        xyz="0 0 0"
        rpy="0 0 0" />
      <geometry>
        <mesh
          filename="package://dual_65B_arm_robot/meshes/right_ring_1.STL" />
      </geometry>
    </collision>
  </link>
  <joint
    name="right_ring_1_joint"
    type="revolute">
    <origin
      xyz="-0.0045302 0.00056467 -0.15683"
      rpy="-1.6232 0 -1.5708" />
    <parent
      link="r_hand_base_link" />
    <child
      link="right_ring_1" />
    <axis
      xyz="0 0 1" />
    <limit
      lower="0"
      upper="1.6"
      effort="10"
      velocity="1" />
  </joint>
  <link
    name="right_ring_2">
    <inertial>
      <origin
        xyz="0.000666830906754845 0.0256973412492289 -0.0060927714564012"
        rpy="0 0 0" />
      <mass
        value="0.0096859390369724" />
      <inertia
        ixx="2.26332196405867E-06"
        ixy="3.92172318180451E-07"
        ixz="-3.65715440420713E-10"
        iyy="3.83108005467821E-07"
        iyz="2.80158649618184E-09"
        izz="2.30200501593561E-06" />
    </inertial>
    <visual>
      <origin
        xyz="0 0 0"
        rpy="0 0 0" />
      <geometry>
        <mesh
          filename="package://dual_65B_arm_robot/meshes/right_ring_2.STL" />
      </geometry>
      <material
        name="">
        <color
          rgba="1 1 1 1" />
      </material>
    </visual>
    <collision>
      <origin
        xyz="0 0 0"
        rpy="0 0 0" />
      <geometry>
        <mesh
          filename="package://dual_65B_arm_robot/meshes/right_ring_2.STL" />
      </geometry>
    </collision>
  </link>
  <joint
    name="right_ring_2_joint"
    type="revolute">
    <origin
      xyz="-0.0031431 0.032624 -0.00055"
      rpy="0 0 0" />
    <parent
      link="right_ring_1" />
    <child
      link="right_ring_2" />
    <axis
      xyz="0 0 1" />
    <limit
      lower="0"
      upper="3.14"
      effort="10"
      velocity="1" />
    <mimic
        joint="right_ring_1_joint"
        multiplier="1.05"
        offset="0" />
  </joint>
  <link
    name="right_little_1">
    <inertial>
      <origin
        xyz="-0.00316844591541324 0.0120823779446085 -0.00664923024026526"
        rpy="0 0 0" />
      <mass
        value="0.00719994987013217" />
      <inertia
        ixx="1.26624415714453E-06"
        ixy="1.17303714016617E-07"
        ixz="-1.15327375313821E-11"
        iyy="5.96925804604496E-07"
        iyz="6.36110319315301E-11"
        izz="1.32922857962206E-06" />
    </inertial>
    <visual>
      <origin
        xyz="0 0 0"
        rpy="0 0 0" />
      <geometry>
        <mesh
          filename="package://dual_65B_arm_robot/meshes/right_little_1.STL" />
      </geometry>
      <material
        name="">
        <color
          rgba="1 1 1 1" />
      </material>
    </visual>
    <collision>
      <origin
        xyz="0 0 0"
        rpy="0 0 0" />
      <geometry>
        <mesh
          filename="package://dual_65B_arm_robot/meshes/right_little_1.STL" />
      </geometry>
    </collision>
  </link>
  <joint
    name="right_little_1_joint"
    type="revolute">
    <origin
      xyz="-0.025916 0.00056467 -0.15365"
      rpy="-1.6755 0 -1.5708" />
    <parent
      link="r_hand_base_link" />
    <child
      link="right_little_1" />
    <axis
      xyz="0 0 1" />
    <limit
      lower="0"
      upper="1.6"
      effort="10"
      velocity="1" />
  </joint>
  <link
    name="right_little_2">
    <inertial>
      <origin
        xyz="0.0204417303421136 -0.00469494170410353 -0.00609999668427265"
        rpy="0 0 0" />
      <mass
        value="0.0075928240732547" />
      <inertia
        ixx="2.31546812157118E-07"
        ixy="-7.27021381773956E-08"
        ixz="2.3664966486269E-11"
        iyy="1.27663957628266E-06"
        iyz="-7.58283070676144E-12"
        izz="1.23909562166535E-06" />
    </inertial>
    <visual>
      <origin
        xyz="0 0 0"
        rpy="0 0 0" />
      <geometry>
        <mesh
          filename="package://dual_65B_arm_robot/meshes/right_little_2.STL" />
      </geometry>
      <material
        name="">
        <color
          rgba="1 1 1 1" />
      </material>
    </visual>
    <collision>
      <origin
        xyz="0 0 0"
        rpy="0 0 0" />
      <geometry>
        <mesh
          filename="package://dual_65B_arm_robot/meshes/right_little_2.STL" />
      </geometry>
    </collision>
  </link>
  <joint
    name="right_little_2_joint"
    type="revolute">
    <origin
      xyz="-0.005182 0.032363 -0.00055"
      rpy="0 0 1.5708" />
    <parent
      link="right_little_1" />
    <child
      link="right_little_2" />
    <axis
      xyz="0 0 1" />
    <limit
      lower="0"
      upper="3.14"
      effort="10"
      velocity="1" />
    <mimic
        joint="right_little_1_joint"
        multiplier="1.18"
        offset="0" />  
  </joint>


  <!-- 左手灵巧手的URDF结构 -->
  <!-- <link name="base_link_left_hand">
    <inertial>
      <origin xyz="-5.81855257230368E-05 0.0036855956860619 -0.0826153899028331" rpy="0 0 0" />
      <mass value="0.260034351097693" />
      <inertia ixx="0.000223659755666589" ixy="-1.13436481934473E-06" ixz="5.34309354519849E-07" iyy="0.000266799681483547" iyz="1.40944118648867E-05" izz="0.000132857769181899" />
    </inertial>
    <visual>
      <origin xyz="0 0 0" rpy="0 0 0" />
      <geometry>
        <mesh filename="package://dual_65B_arm_robot/meshes/base_link.STL" />
      </geometry>
      <material name="">
        <color rgba="0.792156862745098 0.819607843137255 0.933333333333333 1" />
      </material>
    </visual>
    <collision>
      <origin xyz="0 0 0" rpy="0 0 0" />
      <geometry>
        <mesh filename="package://dual_65B_arm_robot/meshes/base_link.STL" />
      </geometry>
    </collision>
  </link> -->

  <!-- 左手灵巧手的关节和链接 -->
  <link
    name="left_thumb_1">
    <inertial>
      <origin
        xyz="0.00178423404495211 -0.000649404577309123 -0.0031358931043441"
        rpy="0 0 0" />
      <mass
        value="0.00115518743162309" />
      <inertia
        ixx="5.98912200501135E-08"
        ixy="-8.04315731947437E-09"
        ixz="-3.29346919841095E-09"
        iyy="4.07201234589857E-08"
        iyz="1.19872544716431E-09"
        izz="6.18161684388651E-08" />
    </inertial>
    <visual>
      <origin
        xyz="0 0 0"
        rpy="0 0 0" />
      <geometry>
        <mesh
          filename="package://dual_65B_arm_robot/meshes/left_thumb_1.STL" />
      </geometry>
      <material
        name="">
        <color
          rgba="0.792156862745098 0.819607843137255 0.933333333333333 1" />
      </material>
    </visual>
    <collision>
      <origin
        xyz="0 0 0"
        rpy="0 0 0" />
      <geometry>
        <mesh
          filename="package://dual_65B_arm_robot/meshes/left_thumb_1.STL" />
      </geometry>
    </collision>
  </link>
  <joint
    name="left_thumb_1_joint"
    type="revolute">
    <origin
      xyz="0.0269 -0.02101 -0.07075"
      rpy="0 0 0" />
    <parent
      link="l_hand_base_link" />
    <child
      link="left_thumb_1" />
    <axis
      xyz="0 0 -1" />
    <limit
      lower="0"
      upper="1.15"
      effort="10"
      velocity="1" />
  </joint>
  <link
    name="left_thumb_2">
    <inertial>
      <origin
        xyz="0.0141077165126408 0.013272947664556 0.00905027694248729"
        rpy="0 0 0" />
      <mass
        value="0.016" />
      <inertia
        ixx="1.06585698719649E-06"
        ixy="-7.62263321516971E-08"
        ixz="2.95033226564006E-11"
        iyy="1.06558155578278E-06"
        iyz="1.55271585897891E-11"
        izz="1.39709651951733E-06" />
    </inertial>
    <visual>
      <origin
        xyz="0 0 0"
        rpy="0 0 0" />
      <geometry>
        <mesh
          filename="package://dual_65B_arm_robot/meshes/left_thumb_2.STL" />
      </geometry>
      <material
        name="">
        <color
          rgba="0.792156862745098 0.819607843137255 0.933333333333333 1" />
      </material>
    </visual>
    <collision>
      <origin
        xyz="0 0 0"
        rpy="0 0 0" />
      <geometry>
        <mesh
          filename="package://dual_65B_arm_robot/meshes/left_thumb_2.STL" />
      </geometry>
    </collision>
  </link>
  <joint
    name="left_thumb_2_joint"
    type="revolute">
    <origin
      xyz="0.0063016 -0.011924 -0.00125"
      rpy="-1.5708 0 -0.34907" />
    <parent
      link="left_thumb_1" />
    <child
      link="left_thumb_2" />
    <axis
      xyz="0 0 1" />
    <limit
      lower="0"
      upper="0.55"
      effort="10"
      velocity="1" />
  </joint>
  <link
    name="left_thumb_3">
    <inertial>
      <origin
        xyz="0.0175210608796189 -0.000458783419545392 0.00589186777098984"
        rpy="0 0 0" />
      <mass
        value="0.012" />
      <inertia
        ixx="4.67948369620491E-07"
        ixy="-4.4974688607358E-08"
        ixz="1.01425359574474E-11"
        iyy="3.98794196148187E-07"
        iyz="2.07037920898898E-10"
        izz="4.24723917424999E-07" />
    </inertial>
    <visual>
      <origin
        xyz="0 0 0"
        rpy="0 0 0" />
      <geometry>
        <mesh
          filename="package://dual_65B_arm_robot/meshes/left_thumb_3.STL" />
      </geometry>
      <material
        name="">
        <color
          rgba="0.792156862745098 0.819607843137255 0.933333333333333 1" />
      </material>
    </visual>
    <collision>
      <origin
        xyz="0 0 0"
        rpy="0 0 0" />
      <geometry>
        <mesh
          filename="package://dual_65B_arm_robot/meshes/left_thumb_3.STL" />
      </geometry>
    </collision>
  </link>
  <joint
    name="left_thumb_3_joint"
    type="revolute">
    <origin
      xyz="0.026828 0.02583 0.00315"
      rpy="0 0 0" />
    <parent
      link="left_thumb_2" />
    <child
      link="left_thumb_3" />
    <axis
      xyz="0 0 1" />
    <limit
      lower="0"
      upper="3.14"
      effort="10"
      velocity="1" />
    <mimic
        joint="left_thumb_2_joint"
        multiplier="0.60"
        offset="0" />
  </joint>
  <link
    name="left_thumb_4">
    <inertial>
      <origin
        xyz="0.0159972574626049 0.0063105797700872 0.0073433144647696"
        rpy="0 0 0" />
      <mass
        value="0.01" />
      <inertia
        ixx="6.4362640059723E-07"
        ixy="-2.57376746969386E-07"
        ixz="-8.63129696542143E-10"
        iyy="7.63678708562786E-07"
        iyz="-7.21288836303217E-10"
        izz="9.2570163408105E-07" />
    </inertial>
    <visual>
      <origin
        xyz="0 0 0"
        rpy="0 0 0" />
      <geometry>
        <mesh
          filename="package://dual_65B_arm_robot/meshes/left_thumb_4.STL" />
      </geometry>
      <material
        name="">
        <color
          rgba="0.792156862745098 0.819607843137255 0.933333333333333 1" />
      </material>
    </visual>
    <collision>
      <origin
        xyz="0 0 0"
        rpy="0 0 0" />
      <geometry>
        <mesh
          filename="package://dual_65B_arm_robot/meshes/left_thumb_4.STL" />
      </geometry>
    </collision>
  </link>
  <joint
    name="left_thumb_4_joint"
    type="revolute">
    <origin
      xyz="0.027027 0.0069965 -0.00145"
      rpy="0 0 0" />
    <parent
      link="left_thumb_3" />
    <child
      link="left_thumb_4" />
    <axis
      xyz="0 0 1" />
    <limit
      lower="0"
      upper="3.14"
      effort="10"
      velocity="1" />
    <mimic
        joint="left_thumb_2_joint"
        multiplier="0.8"
        offset="0" />
  </joint>
  <link
    name="left_index_1">
    <inertial>
      <origin
        xyz="-0.00183599258071257 0.0123544163382434 -0.00665152565125451"
        rpy="0 0 0" />
      <mass
        value="0.0071995003148682" />
      <inertia
        ixx="1.28363093823079E-06"
        ixy="4.22091506924093E-08"
        ixz="-1.1741465013013E-12"
        iyy="5.79447850871435E-07"
        iyz="-8.63816965731366E-11"
        izz="1.32914845722975E-06" />
    </inertial>
    <visual>
      <origin
        xyz="0 0 0"
        rpy="0 0 0" />
      <geometry>
        <mesh
          filename="package://dual_65B_arm_robot/meshes/left_index_1.STL" />
      </geometry>
      <material
        name="">
        <color
          rgba="0.792156862745098 0.819607843137255 0.933333333333333 1" />
      </material>
    </visual>
    <collision>
      <origin
        xyz="0 0 0"
        rpy="0 0 0" />
      <geometry>
        <mesh
          filename="package://dual_65B_arm_robot/meshes/left_index_1.STL" />
      </geometry>
    </collision>
  </link>
  <joint
    name="left_index_1_joint"
    type="revolute">
    <origin
      xyz="0.025387 -0.00056467 -0.15686"
      rpy="-1.6057 0 1.5708" />
    <parent
      link="l_hand_base_link" />
    <child
      link="left_index_1" />
    <axis
      xyz="0 0 1" />
    <limit
      lower="0"
      upper="1.6"
      effort="10"
      velocity="1" />
  </joint>
  <link
    name="left_index_2">
    <inertial>
      <origin
        xyz="0.000405420051948283 0.0257003783460073 -0.00610830787560272"
        rpy="0 0 0" />
      <mass
        value="0.00968688267109518" />
      <inertia
        ixx="2.25563043691857E-06"
        ixy="4.11282885240034E-07"
        ixz="3.87338024122588E-10"
        iyy="3.91279806505403E-07"
        iyz="-2.76559043550419E-09"
        izz="2.30247359295784E-06" />
    </inertial>
    <visual>
      <origin
        xyz="0 0 0"
        rpy="0 0 0" />
      <geometry>
        <mesh
          filename="package://dual_65B_arm_robot/meshes/left_index_2.STL" />
      </geometry>
      <material
        name="">
        <color
          rgba="0.792156862745098 0.819607843137255 0.933333333333333 1" />
      </material>
    </visual>
    <collision>
      <origin
        xyz="0 0 0"
        rpy="0 0 0" />
      <geometry>
        <mesh
          filename="package://dual_65B_arm_robot/meshes/left_index_2.STL" />
      </geometry>
    </collision>
  </link>
  <joint
    name="left_index_2_joint"
    type="revolute">
    <origin
      xyz="-0.0016312 0.032734 -0.00055"
      rpy="0 0 0" />
    <parent
      link="left_index_1" />
    <child
      link="left_index_2" />
    <axis
      xyz="0 0 1" />
    <limit
      lower="0"
      upper="3.14"
      effort="10"
      velocity="1" />
    <mimic
        joint="left_index_1_joint"
        multiplier="1.05"
        offset="0" />
  </joint>
  <link
    name="left_middle_1">
    <inertial>
      <origin
        xyz="-0.00229271394242232 0.0122778605414752 -0.00665151068667683"
        rpy="0 0 0" />
      <mass
        value="0.00719950322487974" />
      <inertia
        ixx="1.27951858905779E-06"
        ixy="6.81813021711596E-08"
        ixz="1.58551121583499E-12"
        iyy="5.83543537428452E-07"
        iyz="-8.56179612608701E-11"
        izz="1.32913234511164E-06" />
    </inertial>
    <visual>
      <origin
        xyz="0 0 0"
        rpy="0 0 0" />
      <geometry>
        <mesh
          filename="package://dual_65B_arm_robot/meshes/left_middle_1.STL" />
      </geometry>
      <material
        name="">
        <color
          rgba="0.792156862745098 0.819607843137255 0.933333333333333 1" />
      </material>
    </visual>
    <collision>
      <origin
        xyz="0 0 0"
        rpy="0 0 0" />
      <geometry>
        <mesh
          filename="package://dual_65B_arm_robot/meshes/left_middle_1.STL" />
      </geometry>
    </collision>
  </link>
  <joint
    name="left_middle_1_joint"
    type="revolute">
    <origin
      xyz="0.0037996 -0.00056467 -0.157"
      rpy="-1.5708 0 1.5708" />
    <parent
      link="l_hand_base_link" />
    <child
      link="left_middle_1" />
    <axis
      xyz="0 0 1" />
    <limit
      lower="0"
      upper="1.6"
      effort="1"
      velocity="1" />
  </joint>
  <link
    name="left_middle_2">
    <inertial>
      <origin
        xyz="7.51983994427274E-05 0.027448753770842 -0.00610022997575017"
        rpy="0 0 0" />
      <mass
        value="0.0104611931926301" />
      <inertia
        ixx="2.75831931773332E-06"
        ixy="4.66412841401028E-07"
        ixz="7.35766561775226E-12"
        iyy="4.22466538741155E-07"
        iyz="-1.79608426686769E-11"
        izz="2.80722617348706E-06" />
    </inertial>
    <visual>
      <origin
        xyz="0 0 0"
        rpy="0 0 0" />
      <geometry>
        <mesh
          filename="package://dual_65B_arm_robot/meshes/left_middle_2.STL" />
      </geometry>
      <material
        name="">
        <color
          rgba="0.792156862745098 0.819607843137255 0.933333333333333 1" />
      </material>
    </visual>
    <collision>
      <origin
        xyz="0 0 0"
        rpy="0 0 0" />
      <geometry>
        <mesh
          filename="package://dual_65B_arm_robot/meshes/left_middle_2.STL" />
      </geometry>
    </collision>
  </link>
  <joint
    name="left_middle_2_joint"
    type="revolute">
    <origin
      xyz="-0.0028436 0.032651 -0.00055"
      rpy="0 0 0" />
    <parent
      link="left_middle_1" />
    <child
      link="left_middle_2" />
    <axis
      xyz="0 0 1" />
    <limit
      lower="0"
      upper="3.14"
      effort="10"
      velocity="1" />
    <mimic
        joint="left_middle_1_joint"
        multiplier="1.05"
        offset="0" />
  </joint>
  <link
    name="left_ring_1">
    <inertial>
      <origin
        xyz="-0.00240530428455066 0.0122563079467745 -0.00665150968297497"
        rpy="0 0 0" />
      <mass
        value="0.00719949770218712" />
      <inertia
        ixx="1.27820682409824E-06"
        ixy="7.45572429780093E-08"
        ixz="2.25718181808859E-12"
        iyy="5.84853511073517E-07"
        iyz="-8.56222330411309E-11"
        izz="1.32913088941838E-06" />
    </inertial>
    <visual>
      <origin
        xyz="0 0 0"
        rpy="0 0 0" />
      <geometry>
        <mesh
          filename="package://dual_65B_arm_robot/meshes/left_ring_1.STL" />
      </geometry>
      <material
        name="">
        <color
          rgba="0.792156862745098 0.819607843137255 0.933333333333333 1" />
      </material>
    </visual>
    <collision>
      <origin
        xyz="0 0 0"
        rpy="0 0 0" />
      <geometry>
        <mesh
          filename="package://dual_65B_arm_robot/meshes/left_ring_1.STL" />
      </geometry>
    </collision>
  </link>
  <joint
    name="left_ring_1_joint"
    type="revolute">
    <origin
      xyz="-0.017813 -0.00056467 -0.15614"
      rpy="-1.5184 0 1.5708" />
    <parent
      link="l_hand_base_link" />
    <child
      link="left_ring_1" />
    <axis
      xyz="0 0 1" />
    <limit
      lower="0"
      upper="1.6"
      effort="10"
      velocity="1" />
  </joint>
  <link
    name="left_ring_2">
    <inertial>
      <origin
        xyz="0.000667145407605998 0.0256949163202511 -0.00610829894053159"
        rpy="0 0 0" />
      <mass
        value="0.00968685177133057" />
      <inertia
        ixx="2.26381138740299E-06"
        ixy="3.92210300202205E-07"
        ixz="3.58404653503583E-10"
        iyy="3.83095000534084E-07"
        iyz="-2.77027363965469E-09"
        izz="2.30247104599333E-06" />
    </inertial>
    <visual>
      <origin
        xyz="0 0 0"
        rpy="0 0 0" />
      <geometry>
        <mesh
          filename="package://dual_65B_arm_robot/meshes/left_ring_2.STL" />
      </geometry>
      <material
        name="">
        <color
          rgba="0.792156862745098 0.819607843137255 0.933333333333333 1" />
      </material>
    </visual>
    <collision>
      <origin
        xyz="0 0 0"
        rpy="0 0 0" />
      <geometry>
        <mesh
          filename="package://dual_65B_arm_robot/meshes/left_ring_2.STL" />
      </geometry>
    </collision>
  </link>
  <joint
    name="left_ring_2_joint"
    type="revolute">
    <origin
      xyz="-0.0031431 0.032624 -0.00055"
      rpy="0 0 0" />
    <parent
      link="left_ring_1" />
    <child
      link="left_ring_2" />
    <axis
      xyz="0 0 1" />
    <limit
      lower="0"
      upper="3.14"
      effort="10"
      velocity="1" />
    <mimic
        joint="left_ring_1_joint"
        multiplier="1.05"
        offset="0" />
  </joint>
  <link
    name="left_little_1">
    <inertial>
      <origin
        xyz="-0.00316889023513399 0.0120814769898197 -0.00665148964848"
        rpy="0 0 0" />
      <mass
        value="0.0071994553320001" />
      <inertia
        ixx="1.26614239360362E-06"
        ixy="1.17349328114653E-07"
        ixz="6.69925886240907E-12"
        iyy="5.96905140854994E-07"
        iyz="-8.54914063893311E-11"
        izz="1.32912203576944E-06" />
    </inertial>
    <visual>
      <origin
        xyz="0 0 0"
        rpy="0 0 0" />
      <geometry>
        <mesh
          filename="package://dual_65B_arm_robot/meshes/left_little_1.STL" />
      </geometry>
      <material
        name="">
        <color
          rgba="0.792156862745098 0.819607843137255 0.933333333333333 1" />
      </material>
    </visual>
    <collision>
      <origin
        xyz="0 0 0"
        rpy="0 0 0" />
      <geometry>
        <mesh
          filename="package://dual_65B_arm_robot/meshes/left_little_1.STL" />
      </geometry>
    </collision>
  </link>
  <joint
    name="left_little_1_joint"
    type="revolute">
    <origin
      xyz="-0.039144 -0.00056467 -0.15226"
      rpy="-1.4661 0 1.5708" />
    <parent
      link="l_hand_base_link" />
    <child
      link="left_little_1" />
    <axis
      xyz="0 0 1" />
    <limit
      lower="0"
      upper="1.6"
      effort="10"
      velocity="1" />
  </joint>
  <link
    name="left_little_2">
    <inertial>
      <origin
        xyz="0.00469503836926433 0.020441957551037 -0.0061004930536056"
        rpy="0 0 0" />
      <mass
        value="0.00759267726265222" />
      <inertia
        ixx="1.27661762368947E-06"
        ixy="7.27034842413144E-08"
        ixz="1.62724400979504E-12"
        iyy="2.31536498425727E-07"
        iyz="-9.71604458446237E-12"
        izz="1.23907231734916E-06" />
    </inertial>
    <visual>
      <origin
        xyz="0 0 0"
        rpy="0 0 0" />
      <geometry>
        <mesh
          filename="package://dual_65B_arm_robot/meshes/left_little_2.STL" />
      </geometry>
      <material
        name="">
        <color
          rgba="0.792156862745098 0.819607843137255 0.933333333333333 1" />
      </material>
    </visual>
    <collision>
      <origin
        xyz="0 0 0"
        rpy="0 0 0" />
      <geometry>
        <mesh
          filename="package://dual_65B_arm_robot/meshes/left_little_2.STL" />
      </geometry>
    </collision>
  </link>
  <joint
    name="left_little_2_joint"
    type="revolute">
    <origin
      xyz="-0.005182 0.032363 -0.00055"
      rpy="0 0 0" />
    <parent
      link="left_little_1" />
    <child
      link="left_little_2" />
    <axis
      xyz="0 0 1" />
    <limit
      lower="0"
      upper="3.14"
      effort="10"
      velocity="1" />
    <mimic
        joint="left_little_1_joint"
        multiplier="1.18"
        offset="0" />  
  </joint>
  
</robot>
